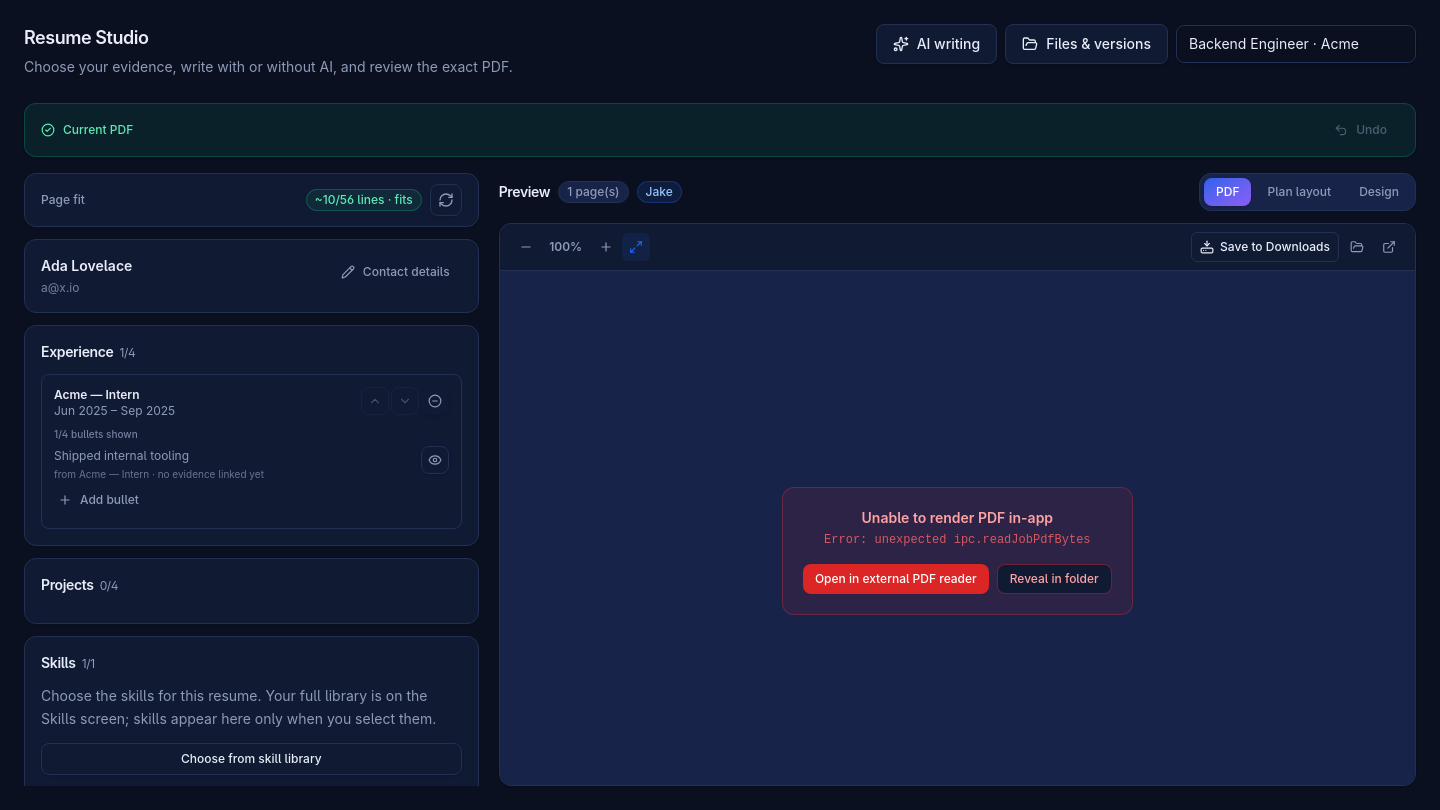
Test case: journey · editing a bullet › editing content after an export flips the status to PDF needs update
Expected: the message "Current PDF Undo" is shown, [24,103,1416,157]
Expected: the message with test id "studio-status" shows "Current PDF", [63,122,133,137]
Click the button named "exclude".
click(435, 401)  # box [421,387,449,415]
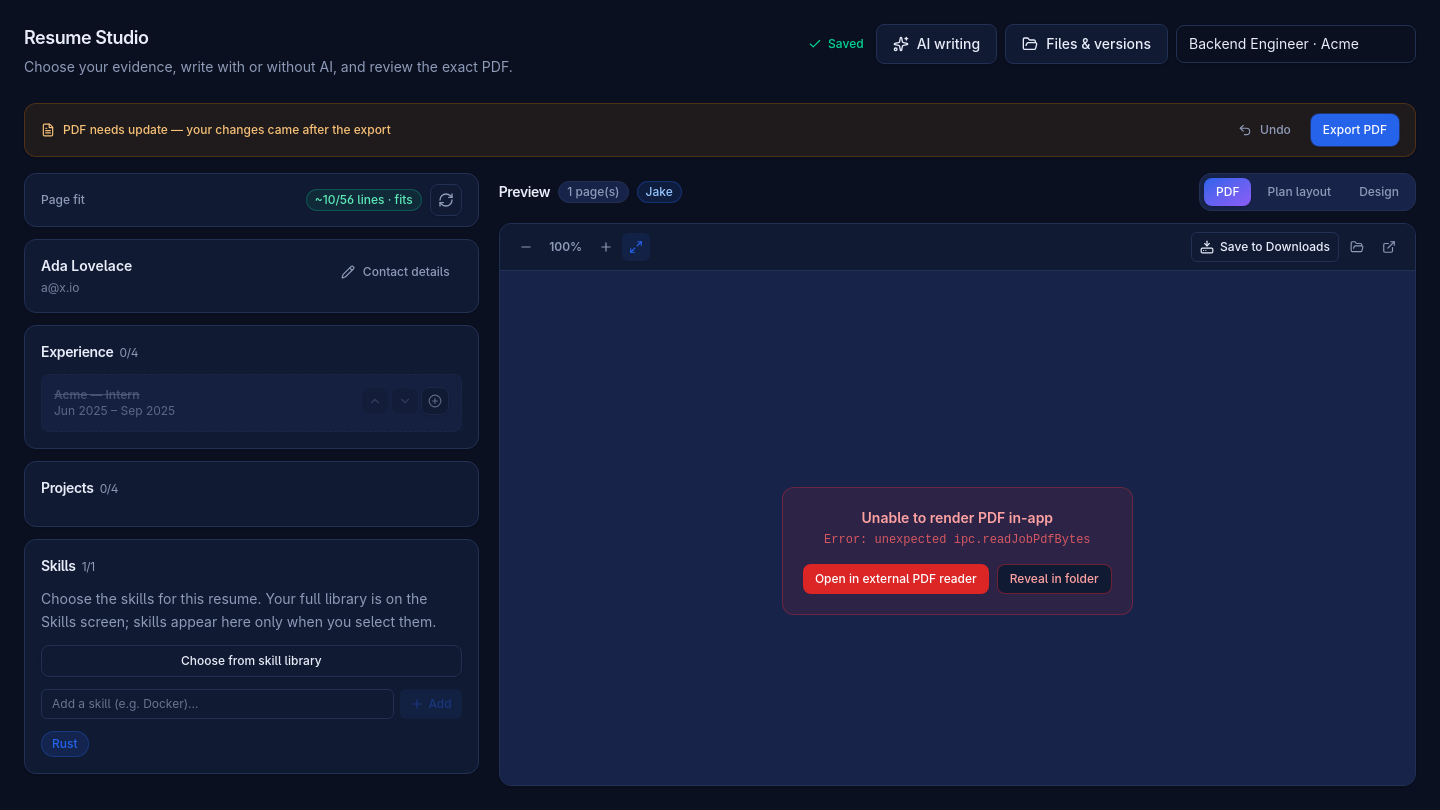
Expected: the message with test id "studio-status" shows "PDF needs update", [63,122,391,137]
